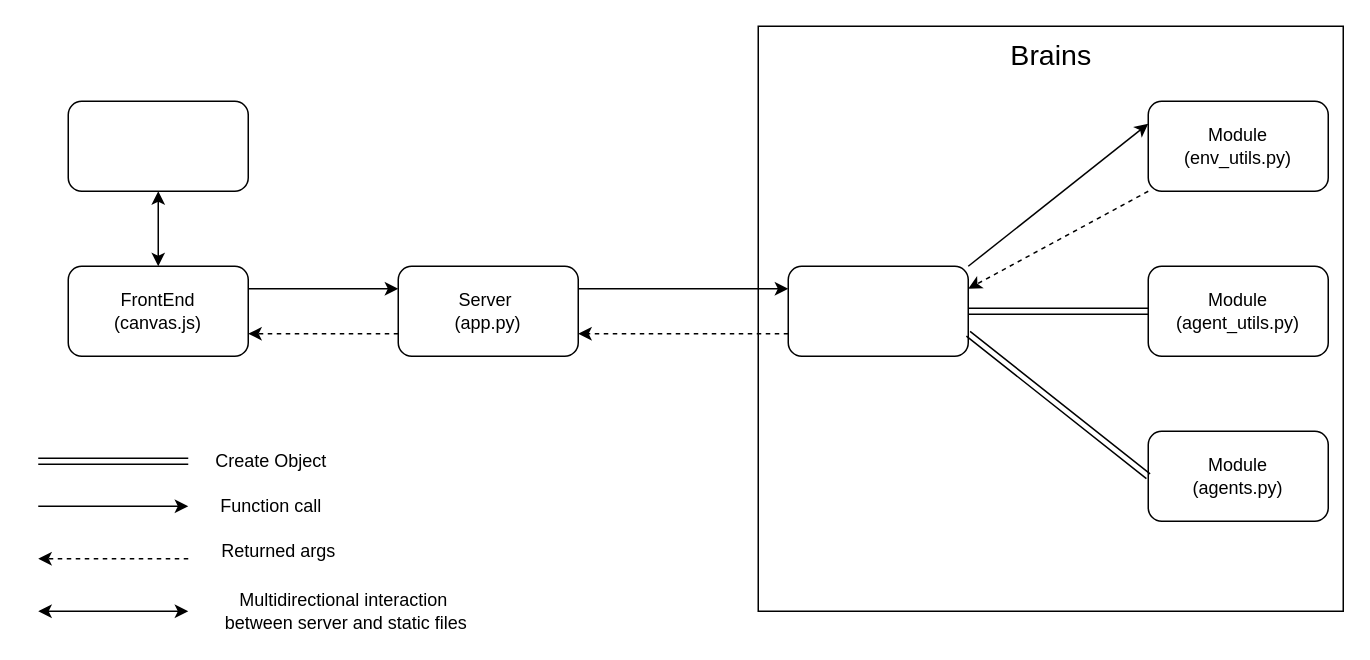
The diagram is 1370 pixels wide and 660 high, and some of its shapes have lost their labels. The shapes that lost their labels are listed below. From the top down, each one's centre as x and y in pixels, then its label:
[157,145]: Representation (index.html)
[877,310]: Module (__init__.py)
